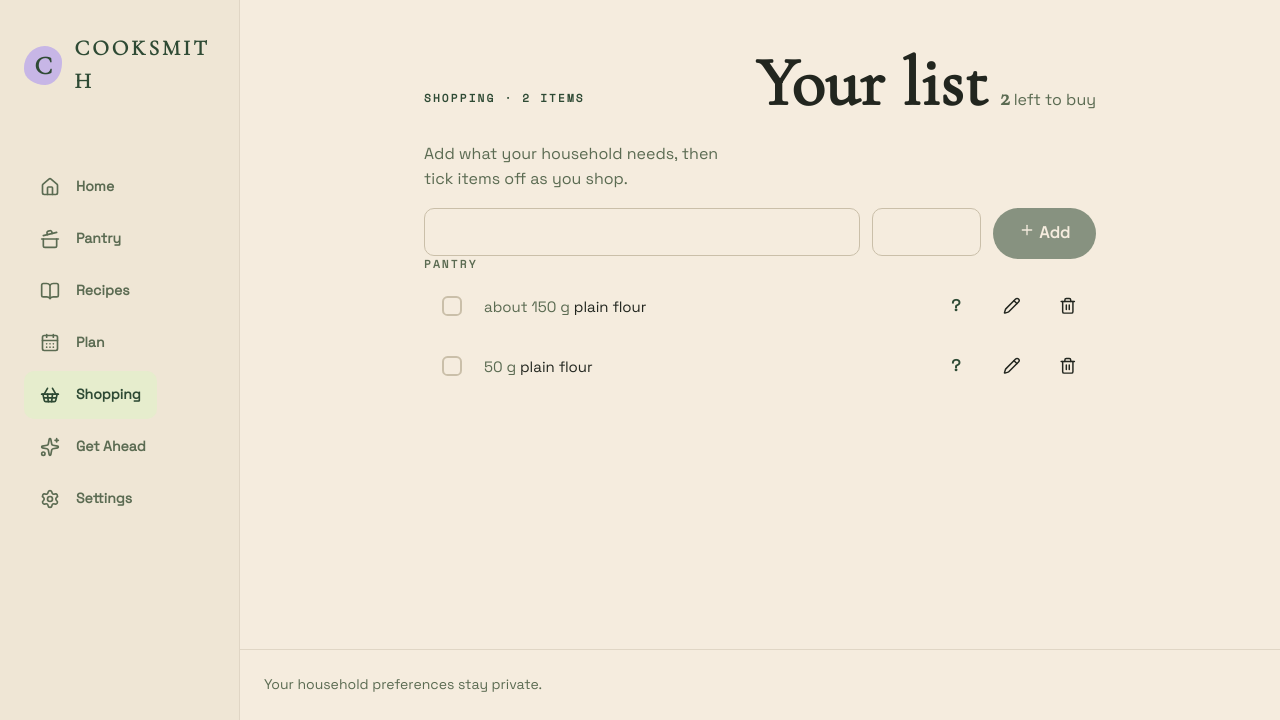
Test case: clean combined purchases › keeps a manual amount separate until the shopper explicitly includes it
Expected: the text "about 150 g" is shown, [484,297,574,316]
Expected: the text "50 g" is shown, [484,357,520,376]
What coordinates should you click on to do the following:
click the 2nd button named "Edit plain flour"
I would click on:
 (1012, 366)
Its box is [988,342,1036,390].
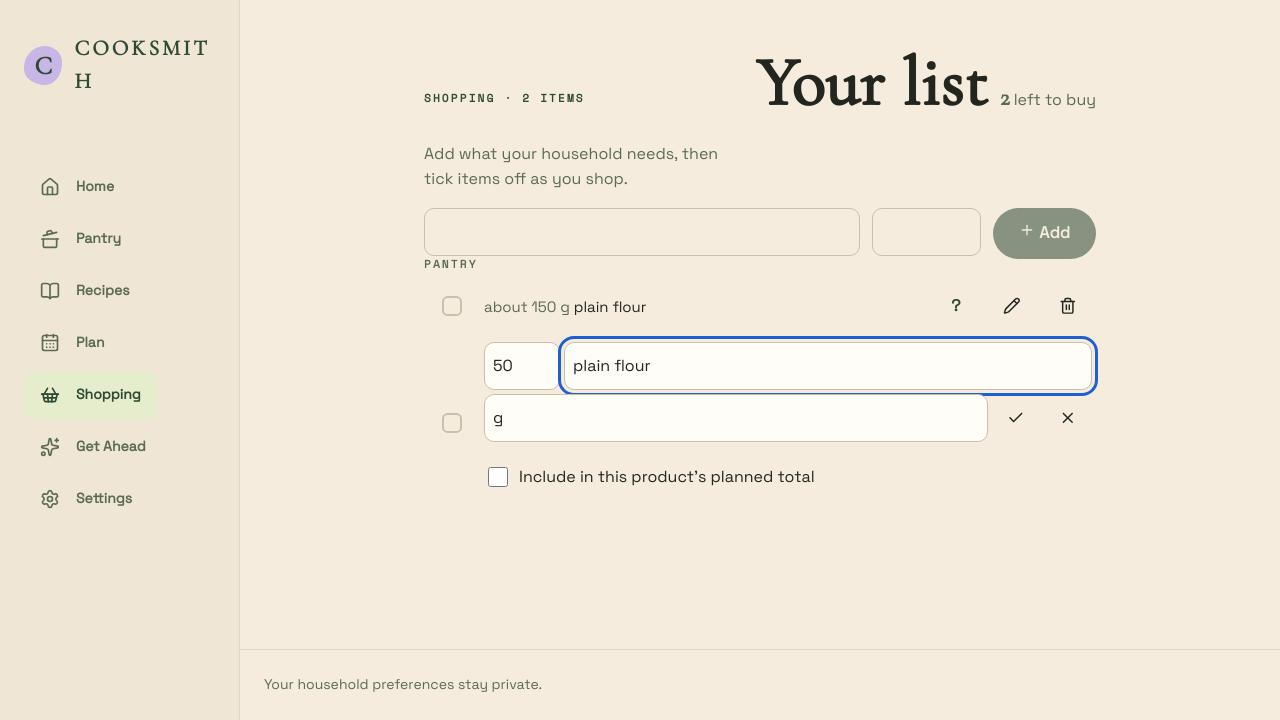
What coordinates should you click on to do the following:
click the checkbox labelled "Include in this product’s planned total"
I would click on:
 (498, 477)
Its box is [488,453,508,501].
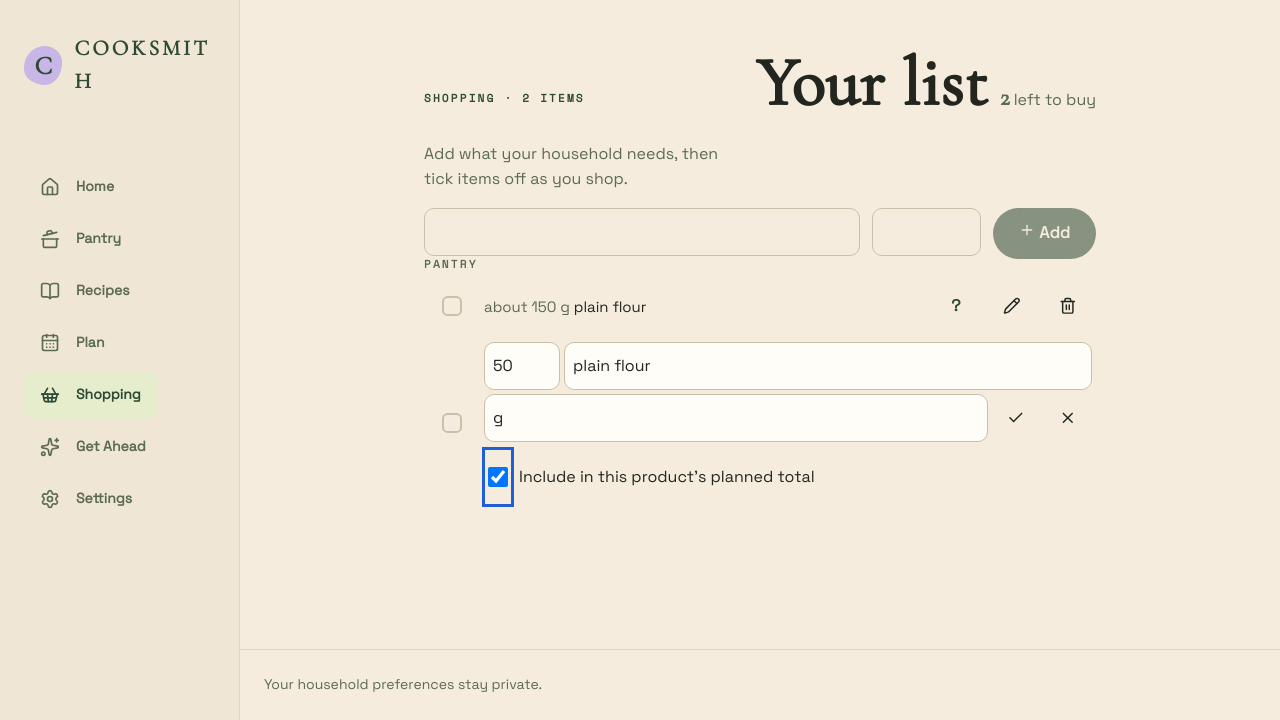
What coordinates should you click on to do the following:
click the button named "Save changes to plain flour"
I would click on:
 (1016, 418)
Its box is [992,394,1040,442].
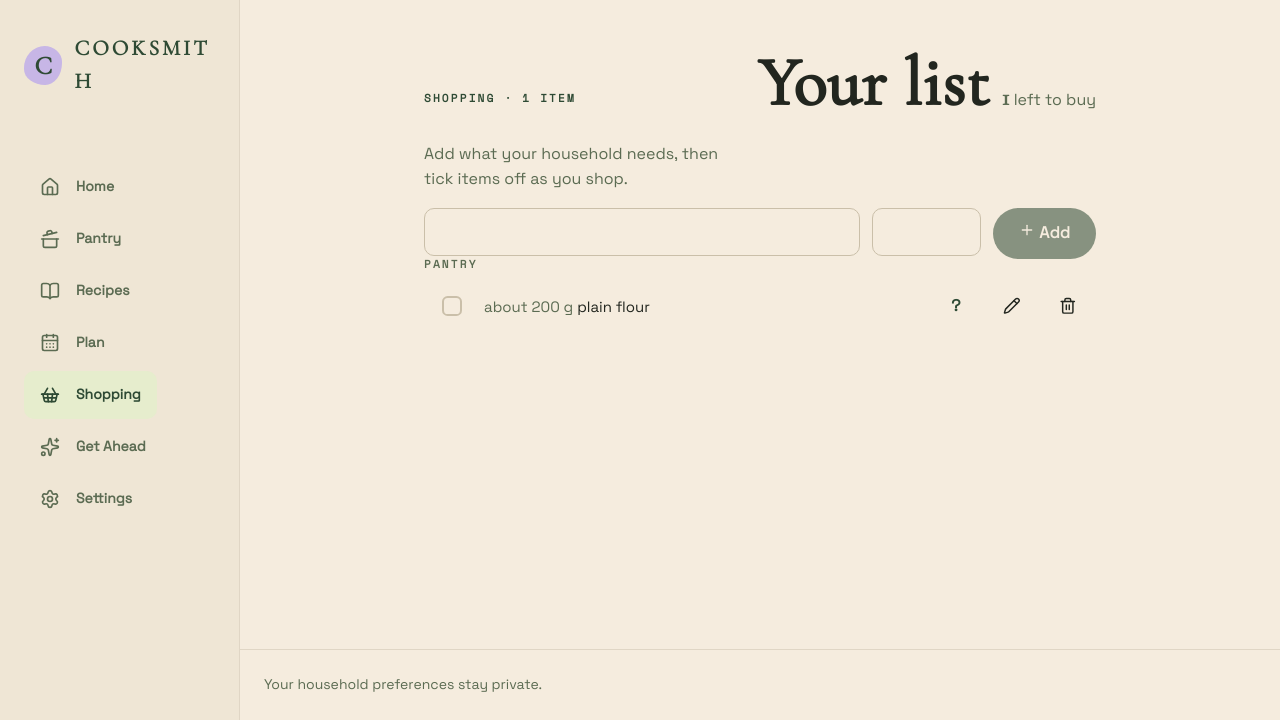
Expected: the text "plain flour" is shown once, [577,297,650,316]
Expected: the text "about 200 g" is shown, [484,297,577,316]
